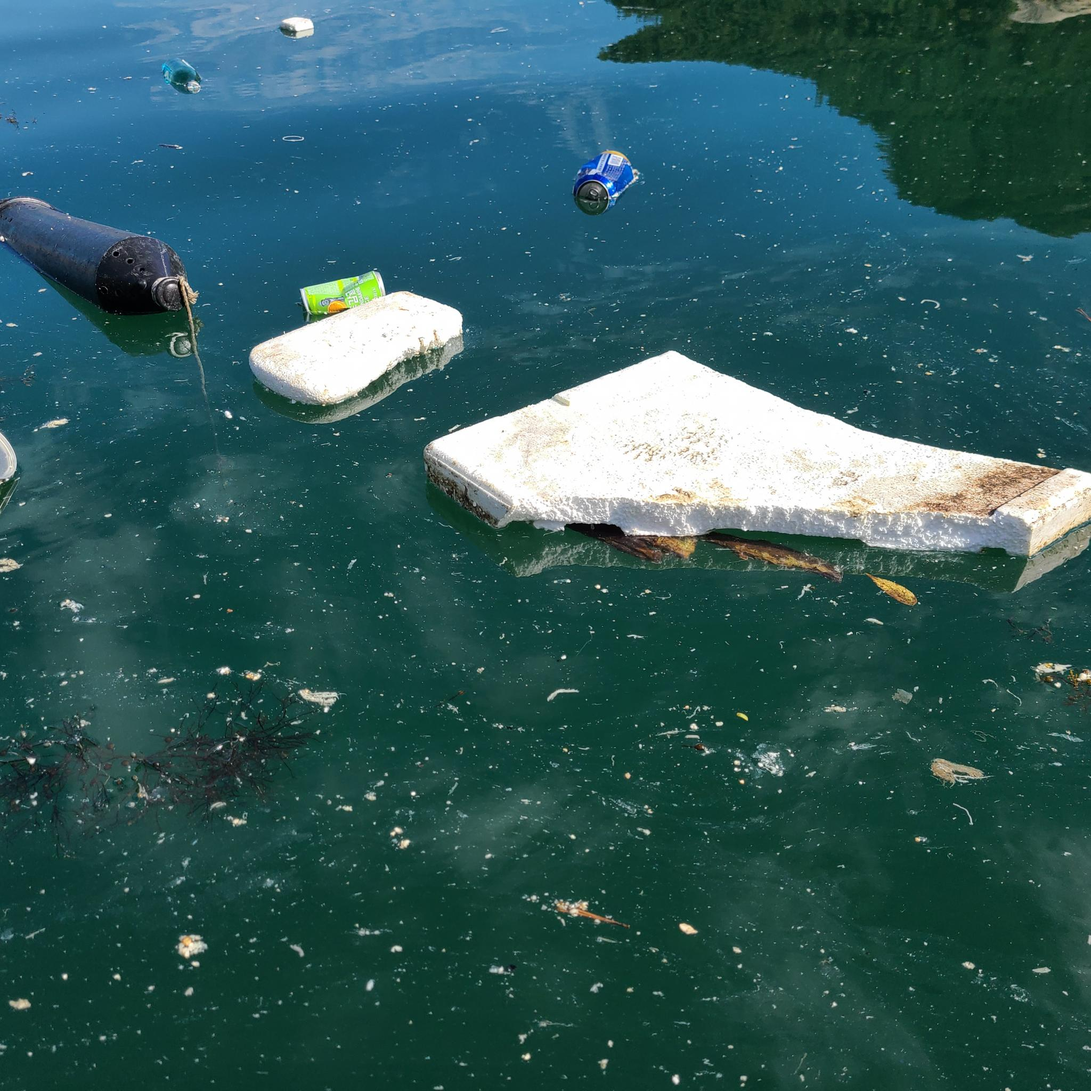sampah_terapung: (425, 349, 1091, 557), (248, 291, 464, 406), (1, 197, 189, 316), (178, 277, 233, 474), (299, 272, 386, 316), (573, 150, 635, 201), (162, 59, 202, 95), (1, 434, 18, 486), (281, 18, 314, 31)
